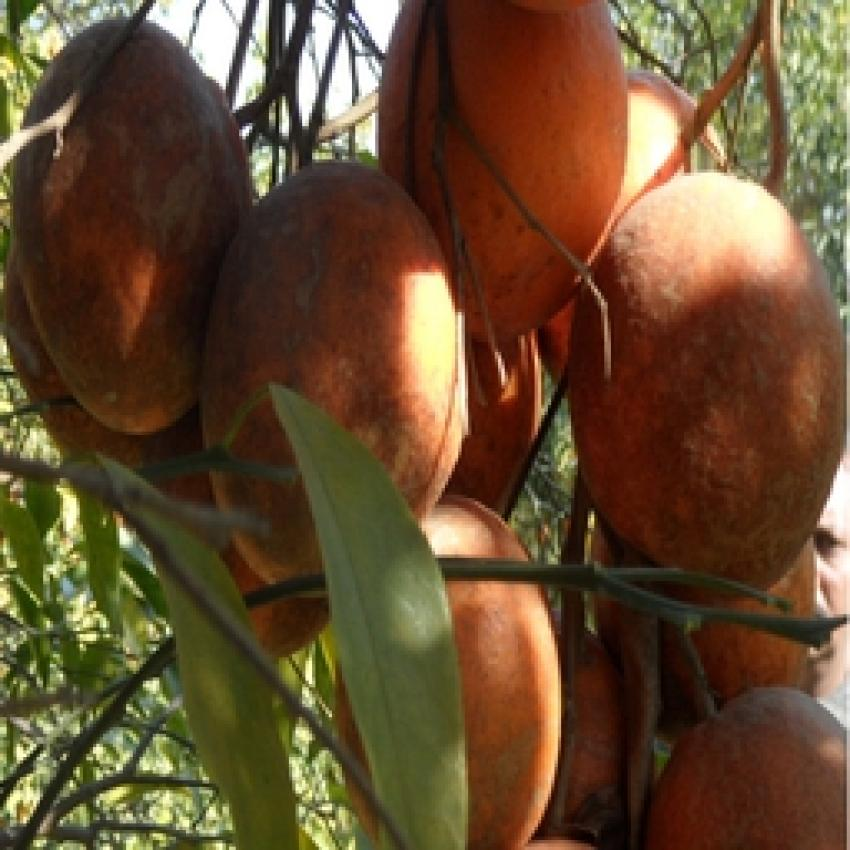Mal estado: (193, 140, 471, 602), (564, 154, 836, 600), (8, 14, 252, 447), (311, 482, 563, 846), (373, 0, 620, 354)
